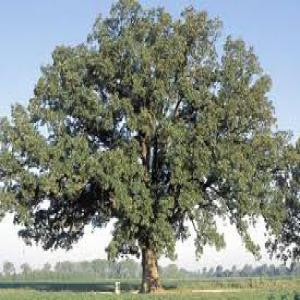Tree: (1, 2, 276, 292)
